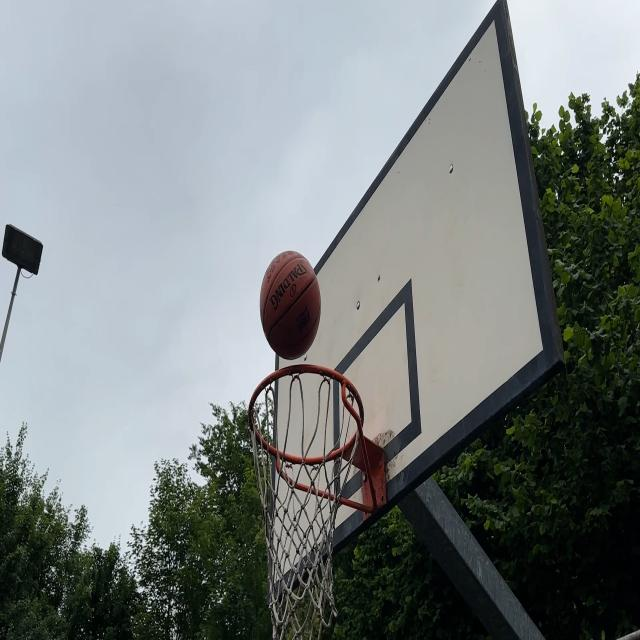Basketball: (262, 252, 322, 360)
